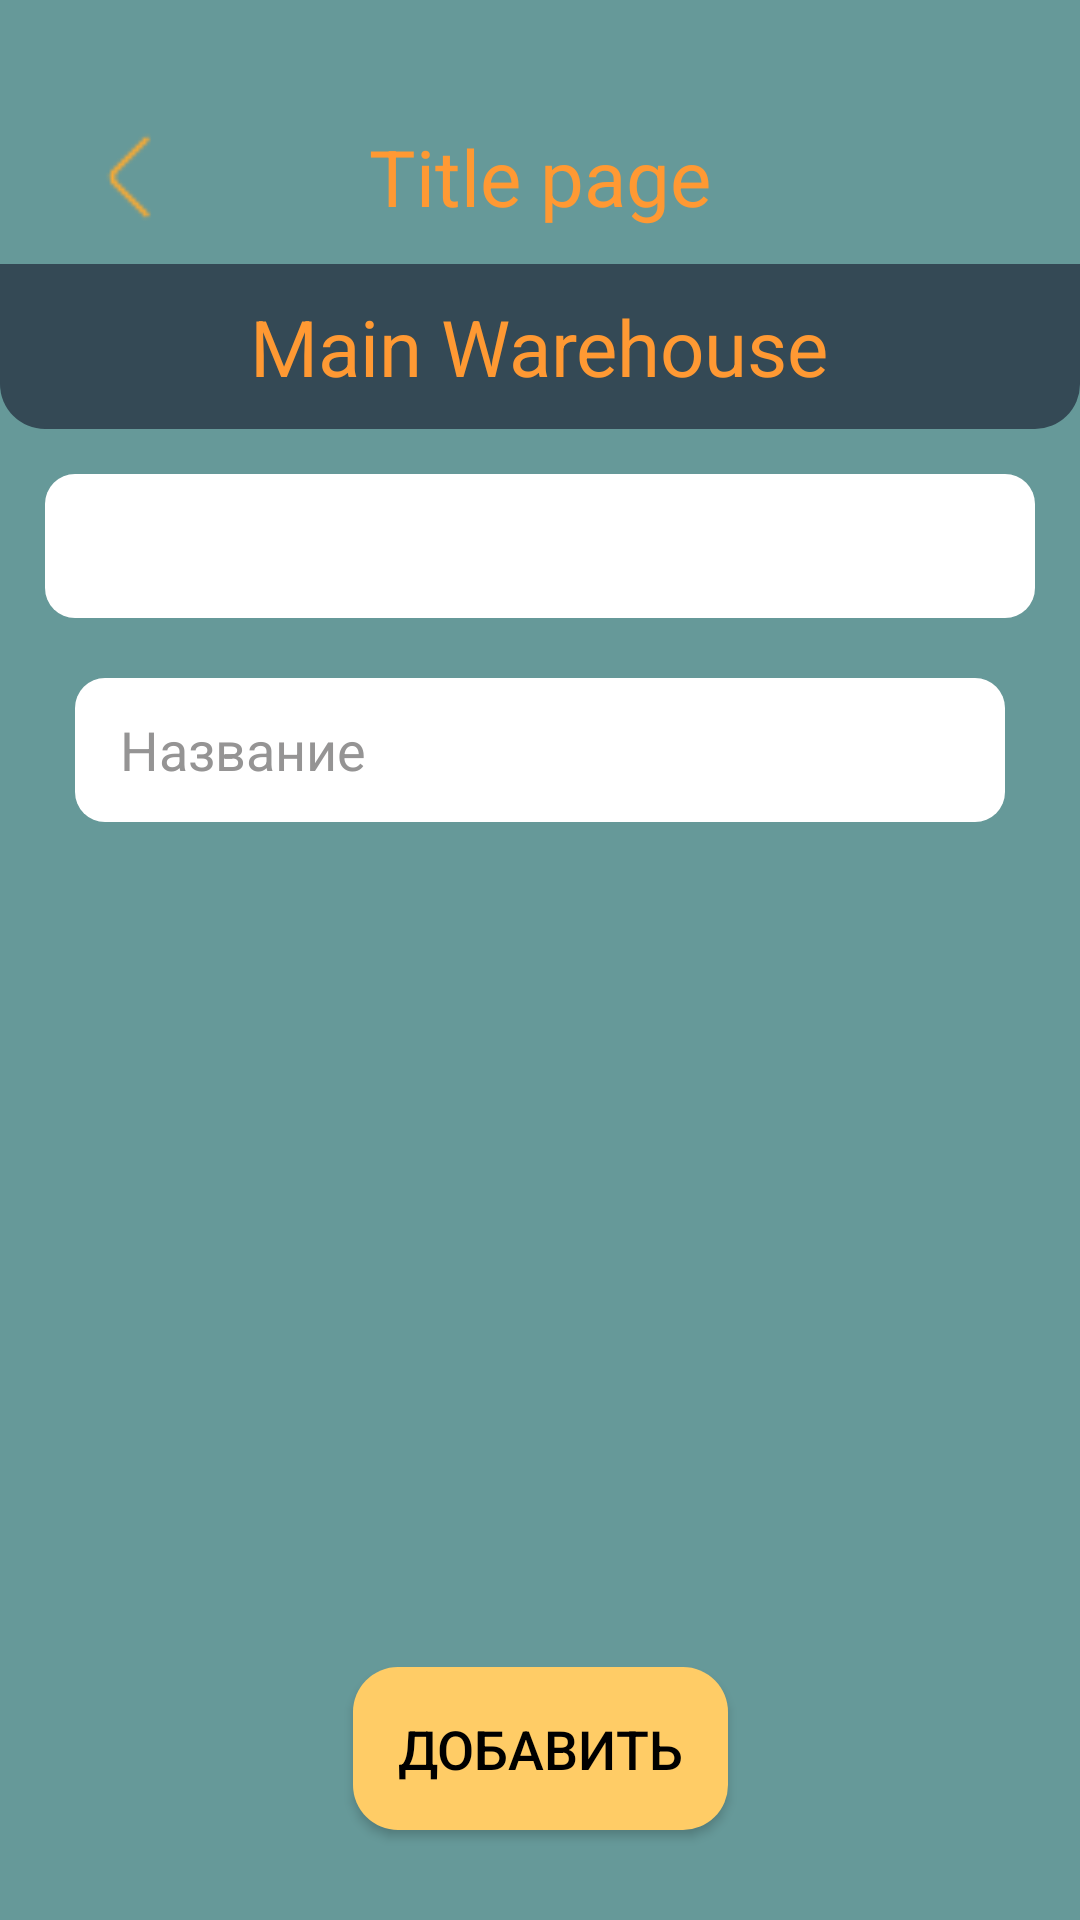

Icon click points for this 1080*1920 phone screenshot, format [x,y]:
return: [129,177]
